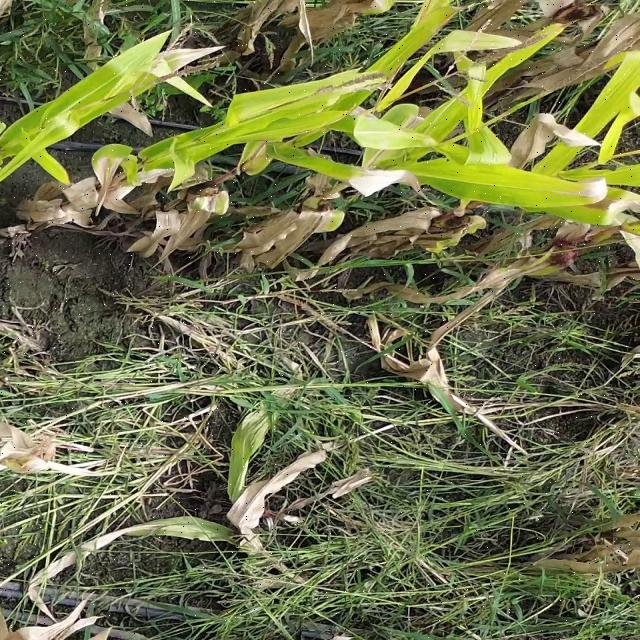gray-leaf-spot: (459, 178, 550, 216)
